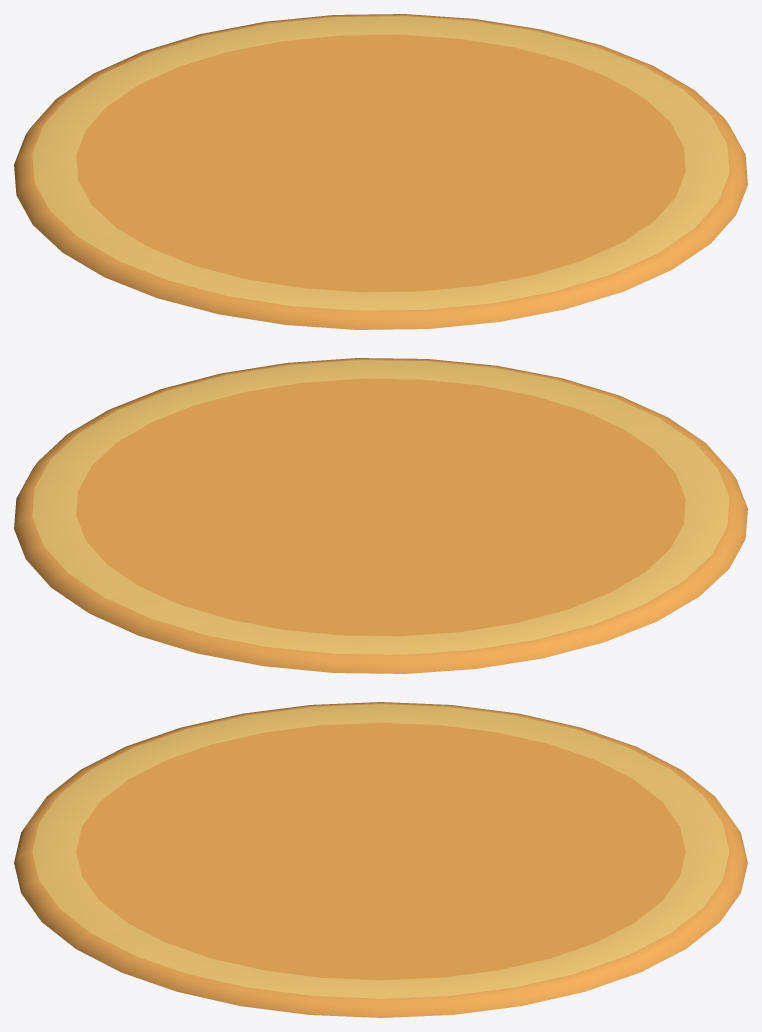
Rendered from carpet_round_large.glb.
The picture shows the model from 3 angles, top to bottom: view 1: azimuth 30°, elevation 25°; view 2: azimuth 150°, elevation 25°; view 3: azimuth 270°, elevation 25°; orthographic projection.
Visible parts, largest first — view 1: carpet_round_large; view 2: carpet_round_large; view 3: carpet_round_large.
Boxes of the visible parts, x1,y1,x2,y2 form: carpet_round_large: (14, 14, 747, 329); carpet_round_large: (14, 358, 747, 673); carpet_round_large: (14, 702, 747, 1017).
Bounding box in the file's own units: 2.92 × 0.05 × 2.92.
1 material, 1 textured.
